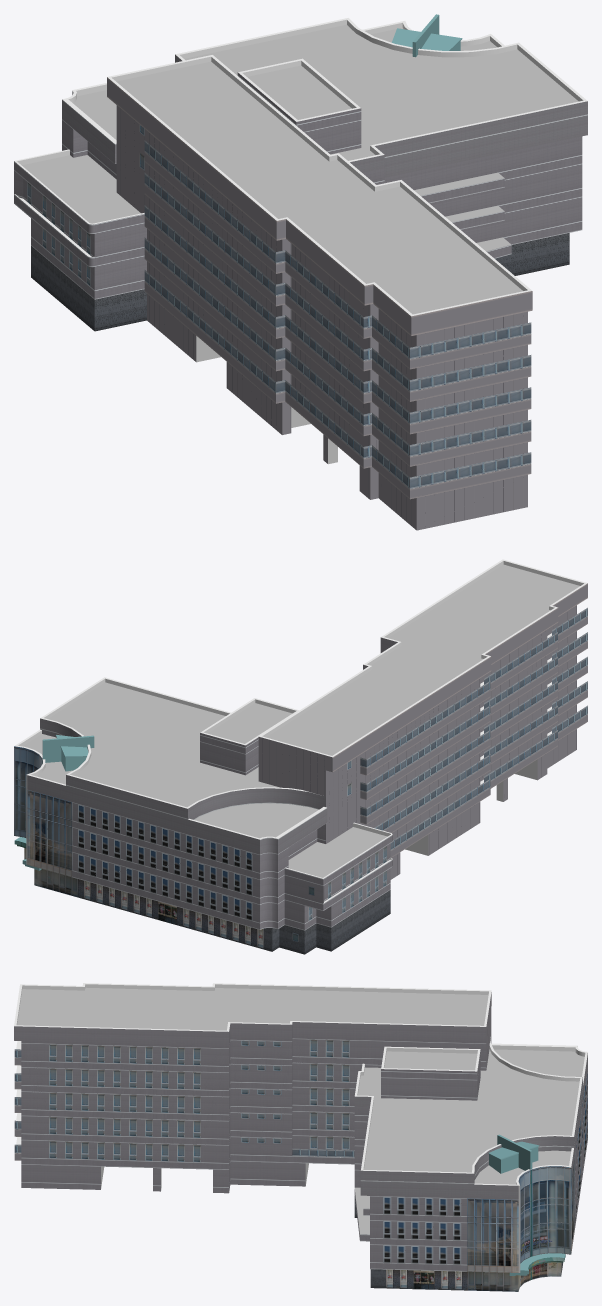
File: sabae-pj3d-tsutsujihall.gltf
3 views of the same model, one above another, from view 1: azimuth 30°, elevation 25°; view 2: azimuth 150°, elevation 25°; view 3: azimuth 270°, elevation 25° (orthographic). The views are drawn at different scales.
Visible parts, largest first — view 1: Mesh1 Group3 Group2 Group1 Model, Mesh2 Group4 Group2 Group1 Model, Mesh10 Group11 __237_2 Group1 Model, Mesh16 Group17 __237_5 Group1 Model, Mesh8 Group9 __237_1 Group1 Model, Mesh12 Group13 __237_3 Group1 Model, Mesh14 Group15 __237_4 Group1 Model, Mesh15 Group16 __237_5 Group1 Model, Mesh7 Group8 __237_1 Group1 Model, Mesh9 Group10 __237_2 Group1 Model, Mesh13 Group14 __237_4 Group1 Model, Mesh11 Group12 __237_3 Group1 Model (+1 smaller); view 2: Mesh1 Group3 Group2 Group1 Model, Mesh2 Group4 Group2 Group1 Model, Mesh8 Group9 __237_1 Group1 Model, Mesh16 Group17 __237_5 Group1 Model, Mesh12 Group13 __237_3 Group1 Model, Mesh14 Group15 __237_4 Group1 Model, Mesh10 Group11 __237_2 Group1 Model, Mesh7 Group8 __237_1 Group1 Model, Mesh11 Group12 __237_3 Group1 Model, Mesh15 Group16 __237_5 Group1 Model, Mesh13 Group14 __237_4 Group1 Model, Mesh9 Group10 __237_2 Group1 Model (+2 smaller); view 3: Mesh1 Group3 Group2 Group1 Model, Mesh2 Group4 Group2 Group1 Model, Mesh6 ___79_1 Group2 Group1 Model, Mesh4 Group6 Group2 Group1 Model, Mesh3 Group5 Group2 Group1 Model, Mesh5 Group7 Group2 Group1 Model.
Boxes of the visible parts, x1=… form: Mesh1 Group3 Group2 Group1 Model: x1=14, y1=18, x2=587, y2=530; Mesh2 Group4 Group2 Group1 Model: x1=237, y1=58, x2=361, y2=154; Mesh10 Group11 __237_2 Group1 Model: x1=144, y1=270, x2=531, y2=489; Mesh16 Group17 __237_5 Group1 Model: x1=144, y1=205, x2=531, y2=424; Mesh8 Group9 __237_1 Group1 Model: x1=144, y1=140, x2=531, y2=359; Mesh12 Group13 __237_3 Group1 Model: x1=144, y1=172, x2=531, y2=391; Mesh14 Group15 __237_4 Group1 Model: x1=144, y1=237, x2=531, y2=456; Mesh15 Group16 __237_5 Group1 Model: x1=144, y1=217, x2=531, y2=434; Mesh7 Group8 __237_1 Group1 Model: x1=144, y1=152, x2=531, y2=369; Mesh9 Group10 __237_2 Group1 Model: x1=144, y1=282, x2=531, y2=499; Mesh13 Group14 __237_4 Group1 Model: x1=144, y1=249, x2=531, y2=466; Mesh11 Group12 __237_3 Group1 Model: x1=144, y1=184, x2=531, y2=401; Mesh1 Group3 Group2 Group1 Model: x1=14, y1=559, x2=587, y2=954; Mesh2 Group4 Group2 Group1 Model: x1=200, y1=698, x2=299, y2=775; Mesh8 Group9 __237_1 Group1 Model: x1=360, y1=607, x2=587, y2=767; Mesh16 Group17 __237_5 Group1 Model: x1=360, y1=656, x2=587, y2=816; Mesh12 Group13 __237_3 Group1 Model: x1=360, y1=632, x2=587, y2=792; Mesh14 Group15 __237_4 Group1 Model: x1=374, y1=681, x2=587, y2=830; Mesh10 Group11 __237_2 Group1 Model: x1=390, y1=705, x2=587, y2=850; Mesh7 Group8 __237_1 Group1 Model: x1=360, y1=613, x2=587, y2=775; Mesh11 Group12 __237_3 Group1 Model: x1=360, y1=638, x2=587, y2=799; Mesh15 Group16 __237_5 Group1 Model: x1=360, y1=662, x2=587, y2=824; Mesh13 Group14 __237_4 Group1 Model: x1=384, y1=687, x2=587, y2=832; Mesh9 Group10 __237_2 Group1 Model: x1=390, y1=711, x2=587, y2=857; Mesh1 Group3 Group2 Group1 Model: x1=14, y1=983, x2=587, y2=1291; Mesh2 Group4 Group2 Group1 Model: x1=381, y1=1046, x2=480, y2=1100; Mesh6 ___79_1 Group2 Group1 Model: x1=488, y1=1141, x2=539, y2=1173; Mesh4 Group6 Group2 Group1 Model: x1=497, y1=1134, x2=532, y2=1170; Mesh3 Group5 Group2 Group1 Model: x1=509, y1=1253, x2=565, y2=1275; Mesh5 Group7 Group2 Group1 Model: x1=292, y1=1148, x2=354, y2=1157.
Size of the model in its own units: 52.24 by 24.28 by 78.23.
21 materials, 17 textured.
